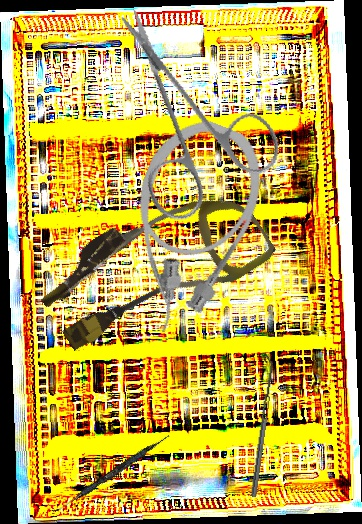Cannula: (29, 159, 279, 376), (93, 106, 280, 347)
Iris Scissors: (72, 5, 306, 243)
Spatula Surgical: (52, 430, 171, 518), (245, 354, 276, 498)
